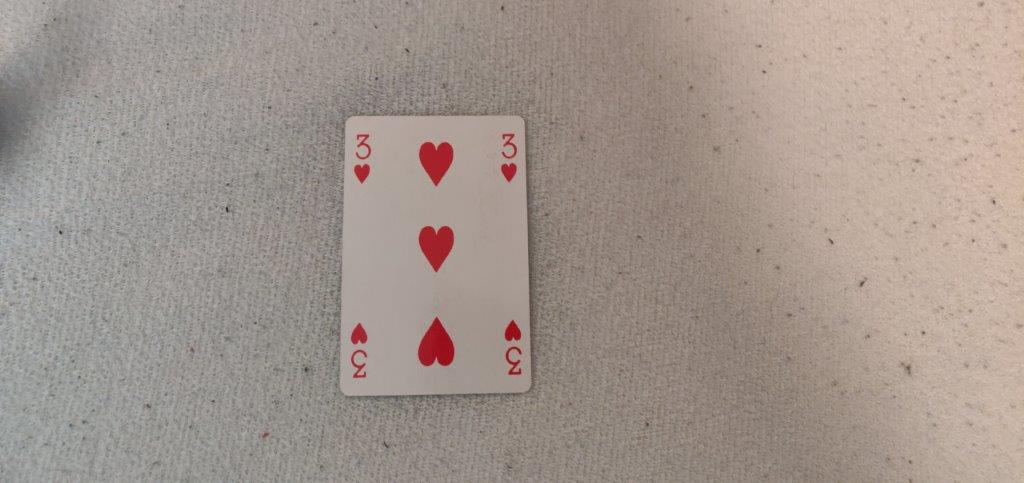3H: (495, 129, 522, 195), (349, 129, 376, 191)
